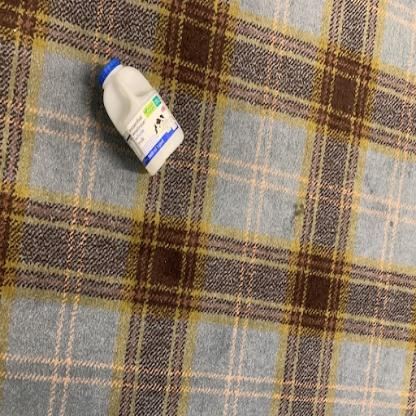trash: (98, 58, 186, 178)
